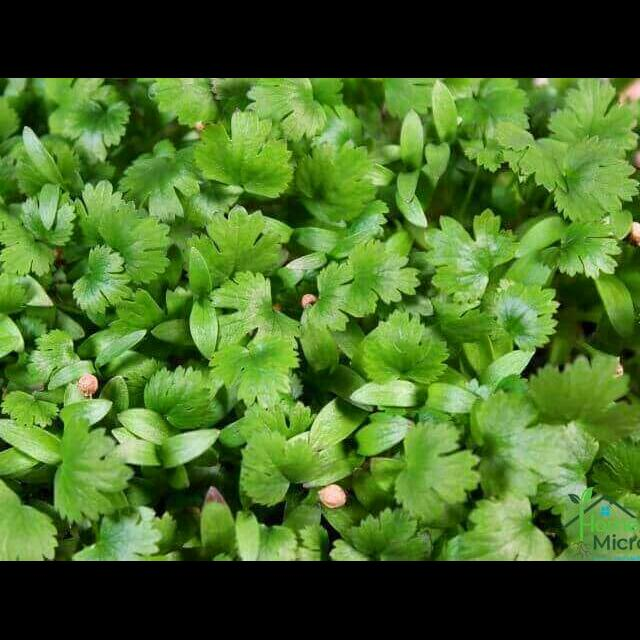cilantro: (28, 149, 582, 502)
